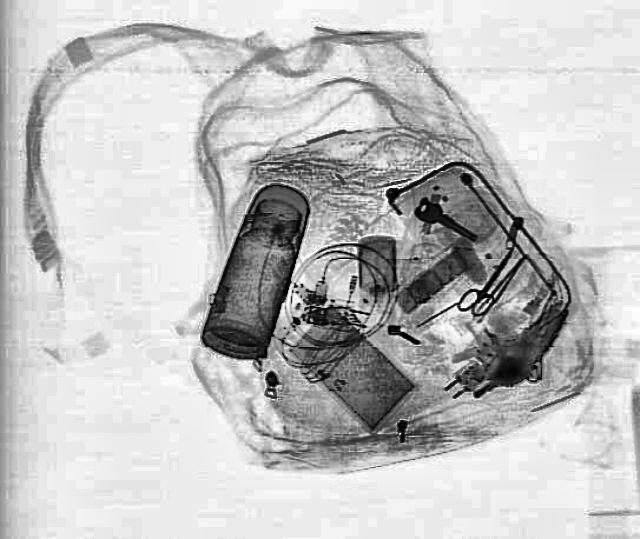Scissors: (455, 244, 525, 318)
